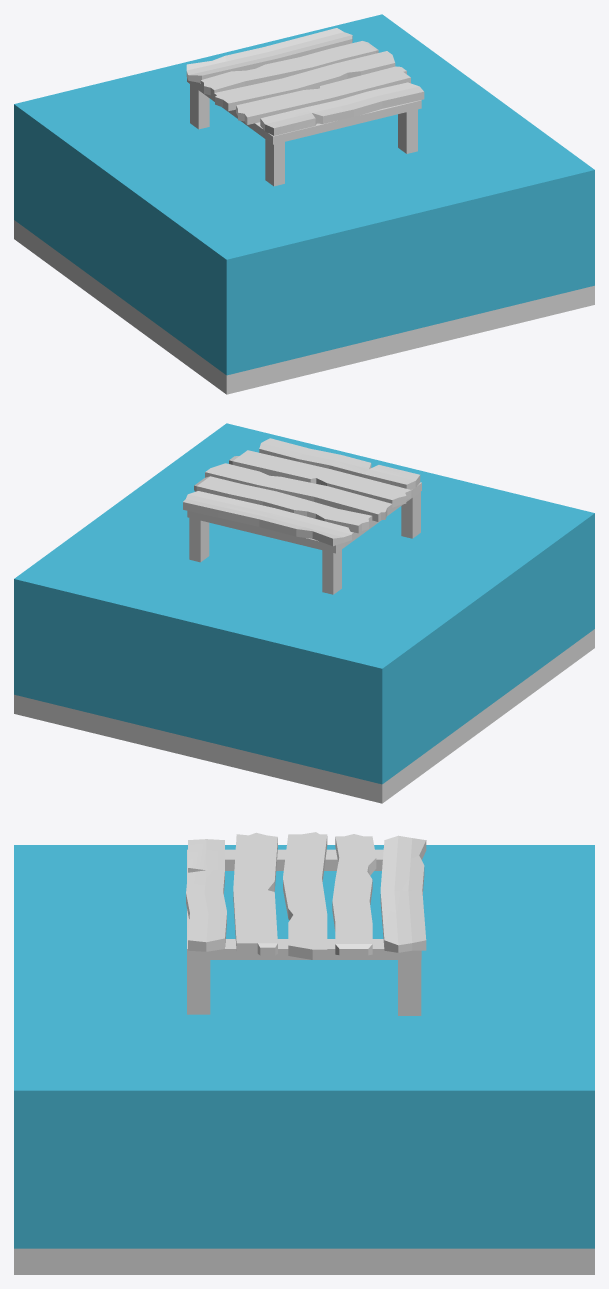
Rendered from Bridge.fbx.
The picture shows the model from 3 angles, top to bottom: view 1: azimuth 30°, elevation 25°; view 2: azimuth 150°, elevation 25°; view 3: azimuth 270°, elevation 25°; orthographic projection. The views are drawn at different scales.
Parts seen in each view (by area): view 1: Bridge; view 2: Bridge; view 3: Bridge.
Part boxes in pixels (<box>): Bridge: <box>14,14,594,394</box>; Bridge: <box>14,423,594,803</box>; Bridge: <box>14,832,594,1274</box>.
Size of the model in its own units: 200 by 99.99 by 200.
